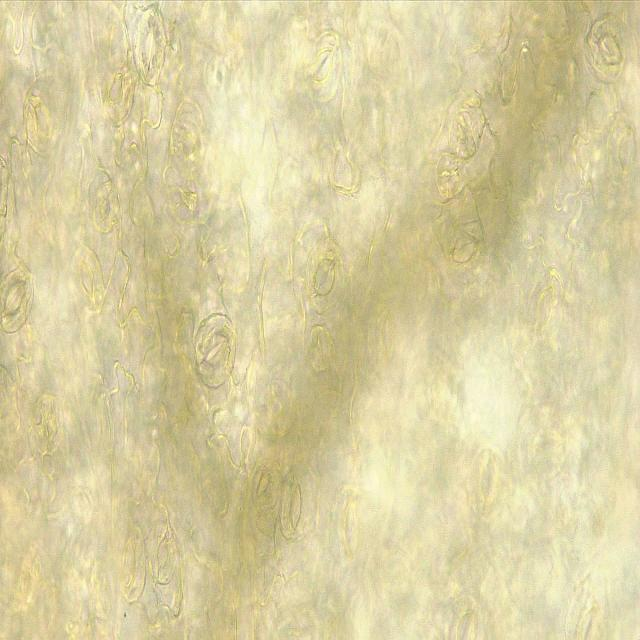Stomata: (328, 484, 371, 574), (192, 309, 238, 390), (304, 236, 346, 318), (584, 12, 629, 85), (22, 81, 65, 157), (303, 28, 344, 106), (468, 445, 508, 523), (132, 5, 168, 89), (526, 272, 564, 348), (605, 113, 640, 191), (0, 263, 36, 336), (444, 220, 486, 282), (99, 58, 136, 128), (115, 522, 146, 605), (563, 583, 608, 640), (278, 467, 310, 542), (72, 242, 104, 314), (32, 392, 64, 457), (146, 520, 177, 586), (443, 593, 483, 640), (92, 181, 119, 234)
